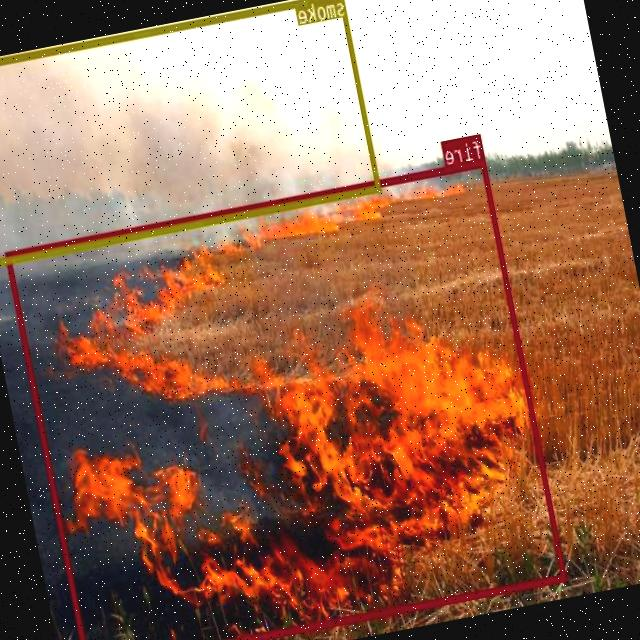fire: (5, 158, 567, 640)
smoke: (0, 0, 382, 266)
